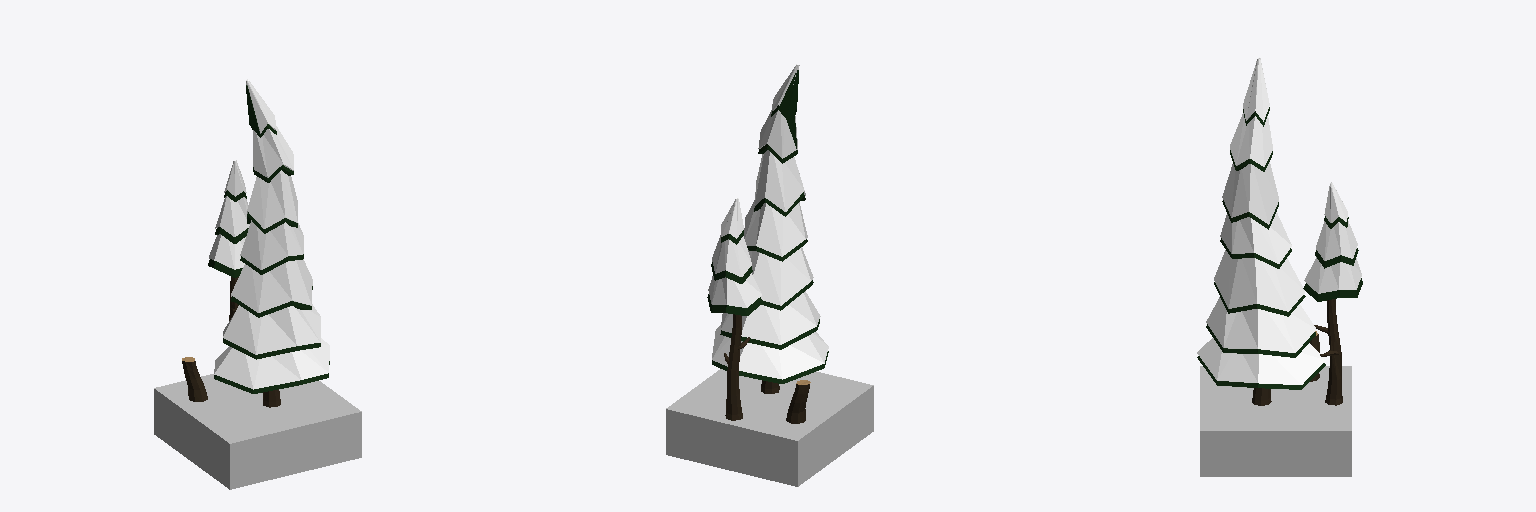
Rendered from Tile_Tree_9.obj.
The picture shows the model from 3 angles: view 1: azimuth 30°, elevation 25°; view 2: azimuth 150°, elevation 25°; view 3: azimuth 270°, elevation 25°; orthographic projection.
Parts seen in each view (by area): view 1: Cube, Cylinder.000_Cylinder.004, Cylinder.001_Cylinder.000, Cylinder.005, Cylinder.003, Cylinder.004_Cylinder.002; view 2: Cube, Cylinder.000_Cylinder.004, Cylinder.005, Cylinder.001_Cylinder.000, Cylinder_Cylinder.006, Cylinder.004_Cylinder.002, Cylinder.003; view 3: Cylinder.000_Cylinder.004, Cube, Cylinder.005, Cylinder.001_Cylinder.000, Cylinder_Cylinder.006, Cylinder.004_Cylinder.002.
Boxes of the visible parts, <box> form: Cube: <box>154,374,361,489</box>; Cylinder.000_Cylinder.004: <box>214,79,329,389</box>; Cylinder.001_Cylinder.000: <box>214,85,329,393</box>; Cylinder.005: <box>209,160,249,269</box>; Cylinder.003: <box>182,357,207,401</box>; Cylinder.004_Cylinder.002: <box>208,190,248,277</box>; Cube: <box>666,369,873,486</box>; Cylinder.000_Cylinder.004: <box>712,64,828,379</box>; Cylinder.005: <box>708,198,761,307</box>; Cylinder.001_Cylinder.000: <box>712,70,828,383</box>; Cylinder_Cylinder.006: <box>724,314,749,420</box>; Cylinder.004_Cylinder.002: <box>707,230,762,315</box>; Cylinder.003: <box>786,380,810,423</box>; Cylinder.000_Cylinder.004: <box>1197,57,1325,384</box>; Cube: <box>1200,366,1351,476</box>; Cylinder.005: <box>1304,182,1361,293</box>; Cylinder.001_Cylinder.000: <box>1197,107,1325,389</box>; Cylinder_Cylinder.006: <box>1314,299,1342,405</box>; Cylinder.004_Cylinder.002: <box>1303,216,1362,301</box>.
Bounding box in the file's own units: 3 × 8.2 × 3.28.